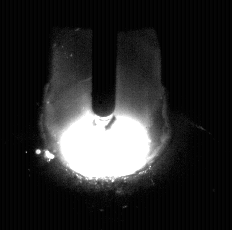arame: (92, 0, 117, 117)
poca: (39, 0, 169, 230)
